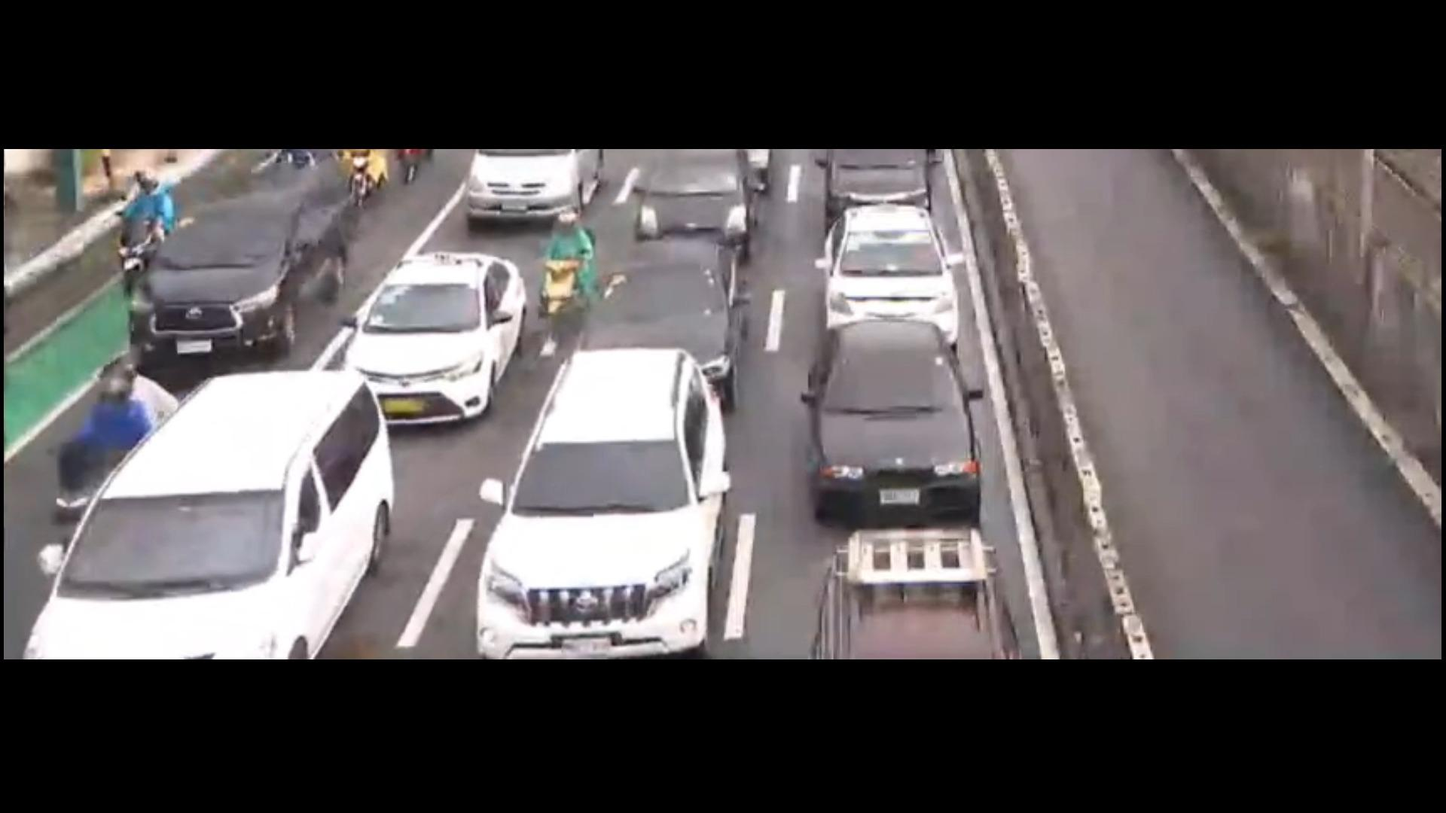Motorcycle: (51, 350, 153, 529), (535, 207, 593, 344)
SUV: (32, 371, 386, 653), (467, 356, 723, 642), (791, 540, 1017, 655)
Sedan: (120, 192, 345, 365), (804, 316, 990, 516), (341, 248, 512, 423), (574, 237, 744, 395), (813, 213, 960, 348)
